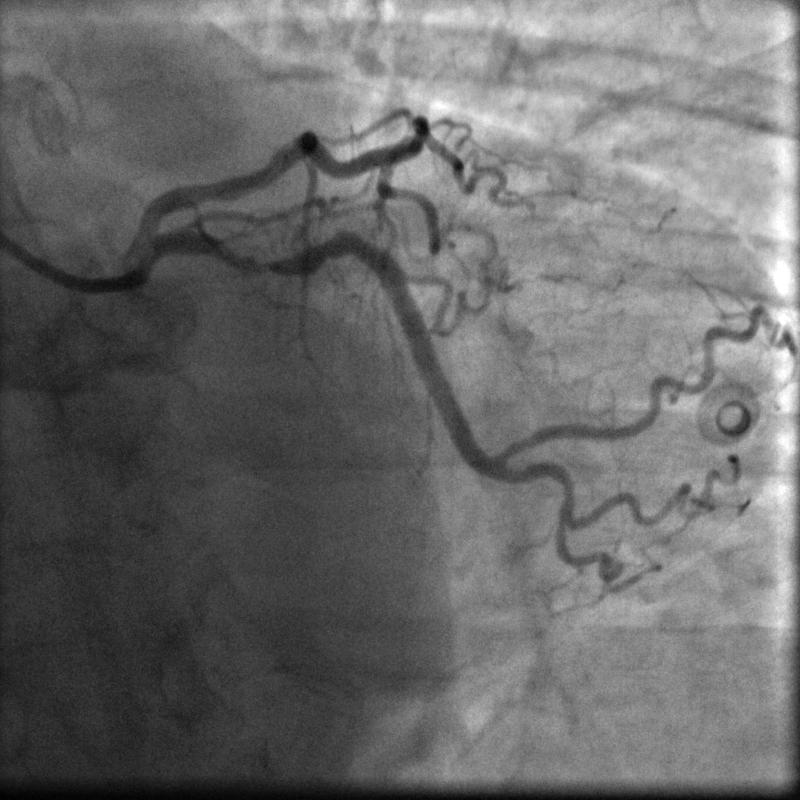Stenosis: (234, 245, 301, 279)
